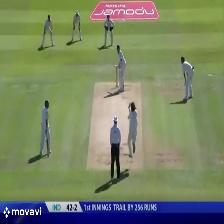batsman: (113, 43, 130, 96)
